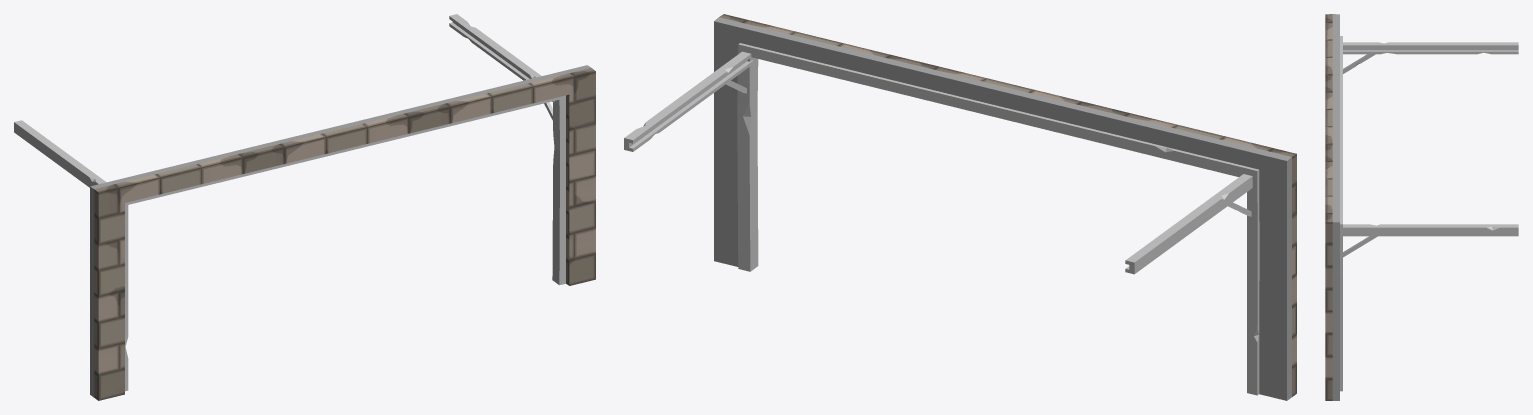
Rendered from SM_Bld_Wall_Garage_01.fbx.
3 renders of one model, left to right at view 1: azimuth 30°, elevation 25°; view 2: azimuth 150°, elevation 25°; view 3: azimuth 270°, elevation 25°, orthographic. The views are drawn at different scales.
Visible parts, largest first — view 1: SM_Bld_Wall_Garage_01; view 2: SM_Bld_Wall_Garage_01; view 3: SM_Bld_Wall_Garage_01.
Part boxes in pixels (box(x1,y1,x2,y2)): SM_Bld_Wall_Garage_01: box(14, 14, 595, 400); SM_Bld_Wall_Garage_01: box(624, 14, 1296, 400); SM_Bld_Wall_Garage_01: box(1325, 14, 1518, 400).
Size of the model in its own units: 750 by 301 by 294.
